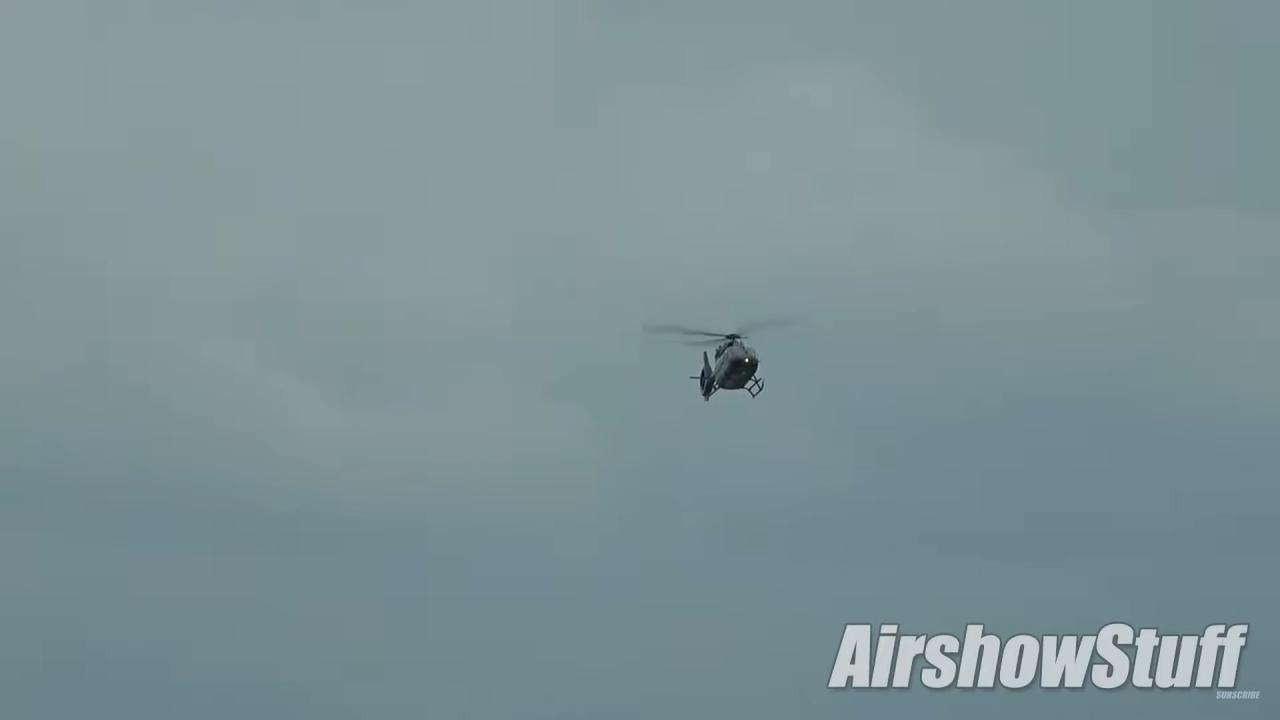Helicopter: (634, 310, 817, 409)
